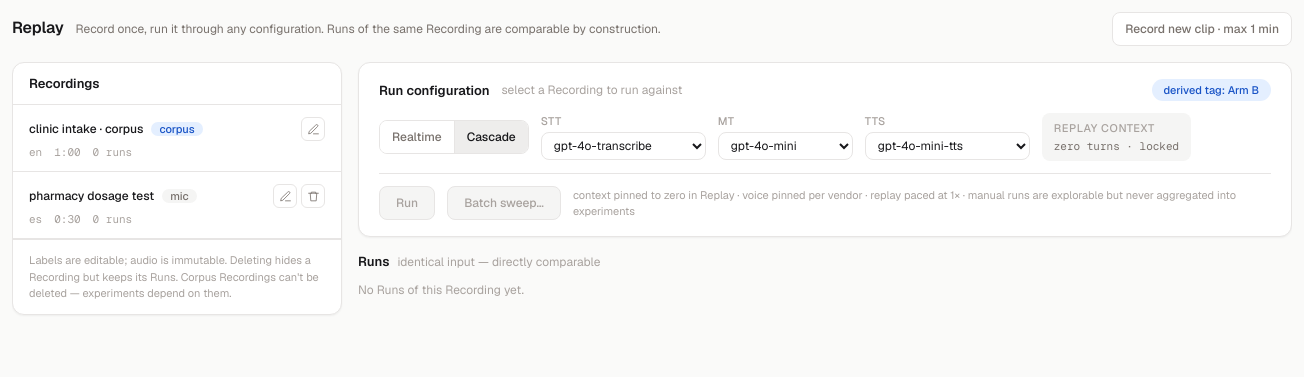
ticket 024 — Run and Batch sweep have no affordance without a selection › Run is enabled once a Recording is selected
Expected: the element that starts with "Recordings" is shown, [12, 62, 342, 314]
Expected: the button "Run" is disabled, [379, 186, 435, 220]
Step 1. Click the option "clinic intake · corpus corpus en 1:00 0 runs" → (177,138), box [13, 105, 341, 172]
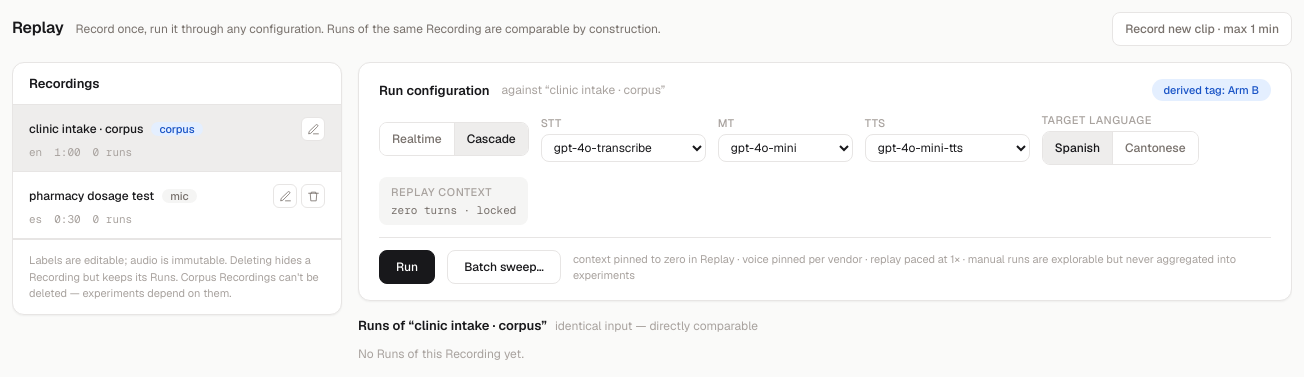
Now the button "Run" is enabled, box [379, 250, 435, 284]
